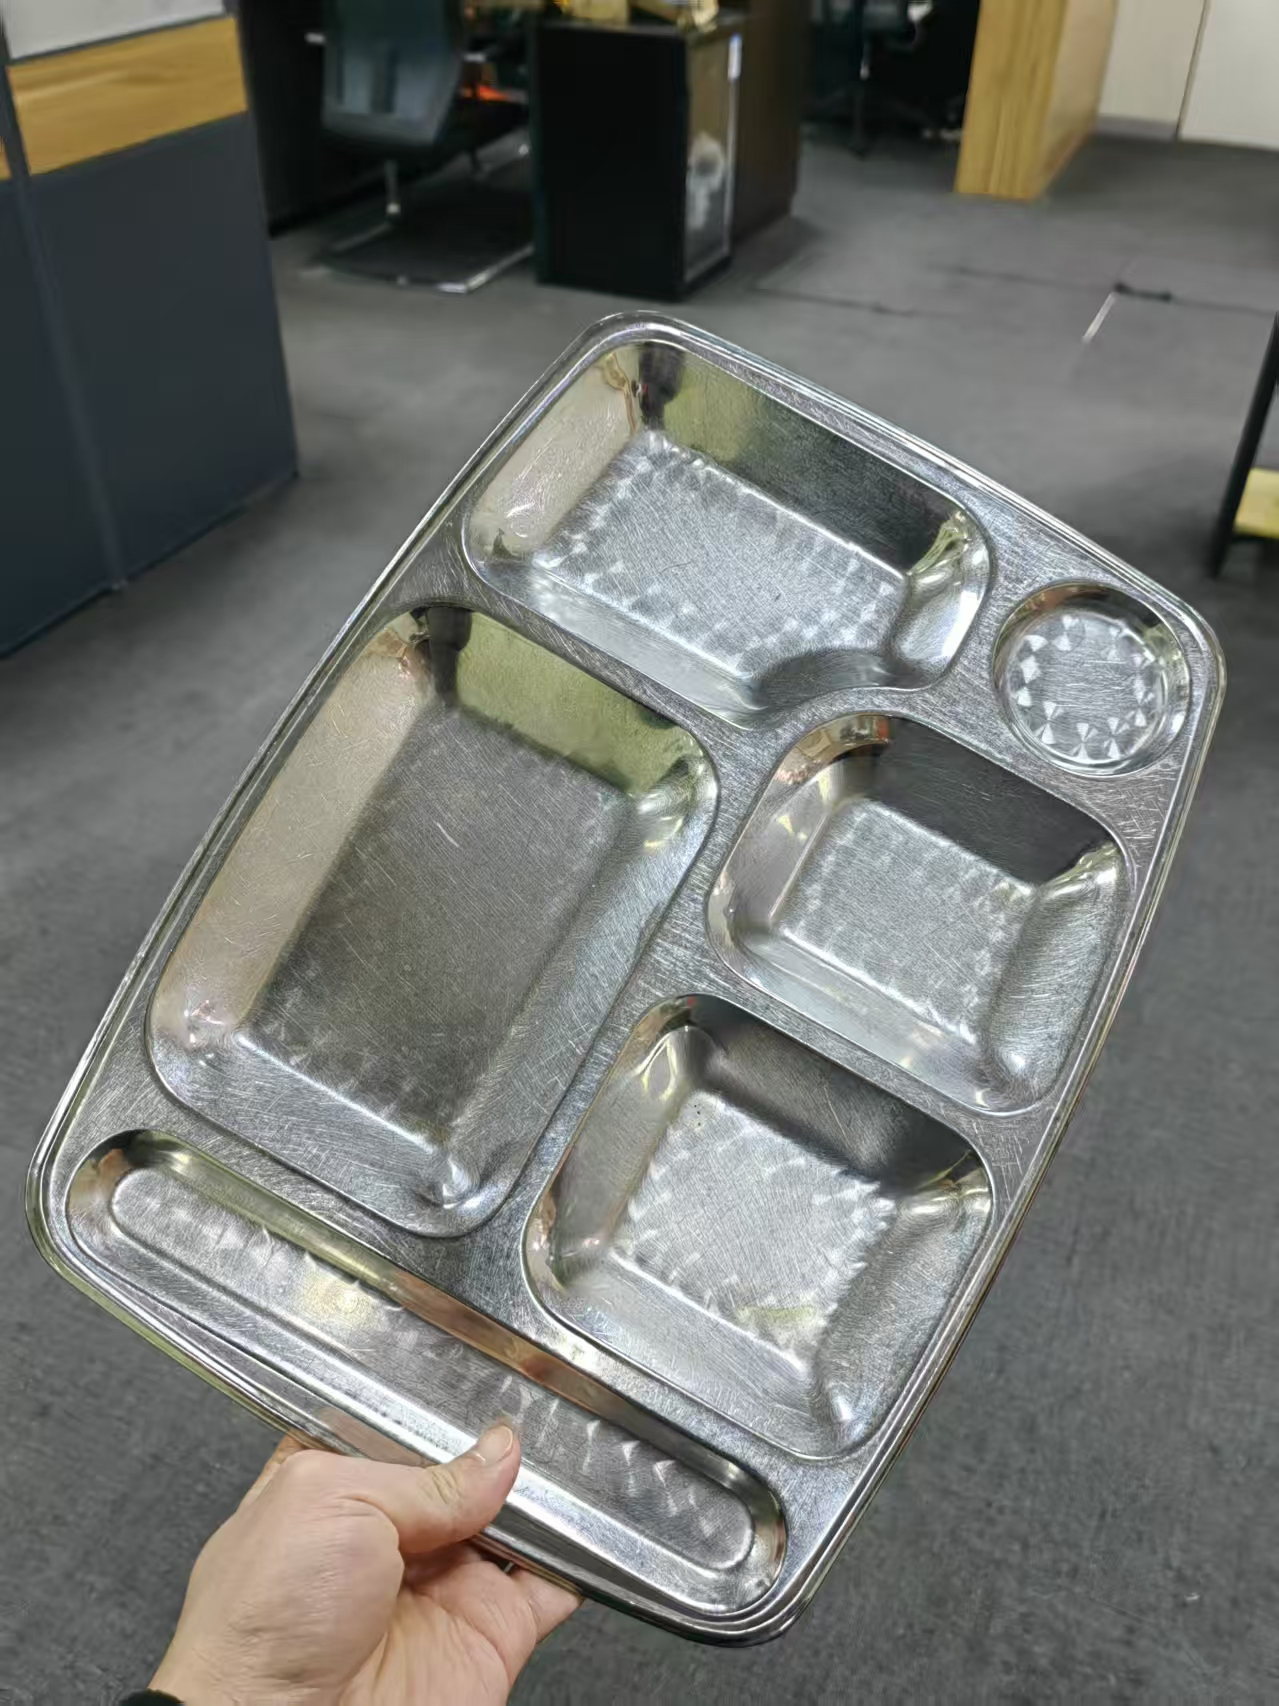plate: (23, 306, 1228, 1647)
